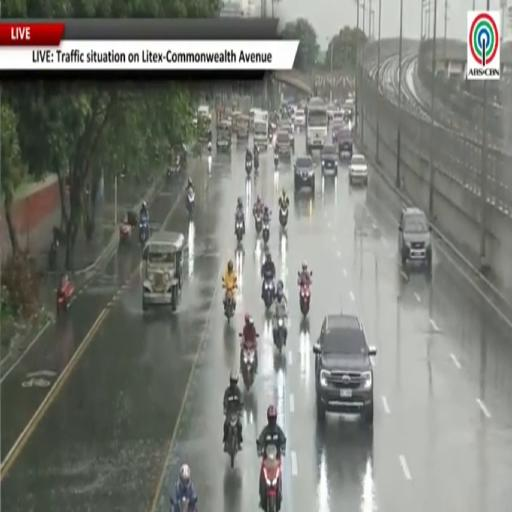car: (313, 313, 376, 425), (399, 207, 432, 269), (294, 155, 315, 191), (333, 124, 353, 157), (349, 154, 368, 185), (321, 144, 338, 175), (279, 122, 294, 150), (276, 131, 291, 158), (294, 109, 305, 129), (327, 104, 336, 121)
jeepney: (142, 232, 184, 311), (216, 120, 232, 151), (237, 115, 249, 143), (232, 111, 242, 134)
motorcycle: (262, 445, 282, 511), (224, 413, 239, 468), (241, 342, 255, 391), (57, 279, 74, 315), (274, 318, 286, 354), (263, 276, 275, 310), (171, 496, 197, 511), (300, 283, 310, 316), (48, 239, 58, 271), (300, 284, 310, 316), (119, 221, 132, 245), (225, 291, 234, 324), (140, 218, 149, 246), (187, 189, 194, 219), (279, 206, 288, 228), (236, 219, 243, 243), (262, 222, 269, 244), (255, 213, 262, 234), (246, 159, 252, 177), (254, 156, 259, 172), (208, 155, 212, 173), (274, 155, 278, 171)
truck: (306, 98, 328, 153), (254, 111, 268, 150)
